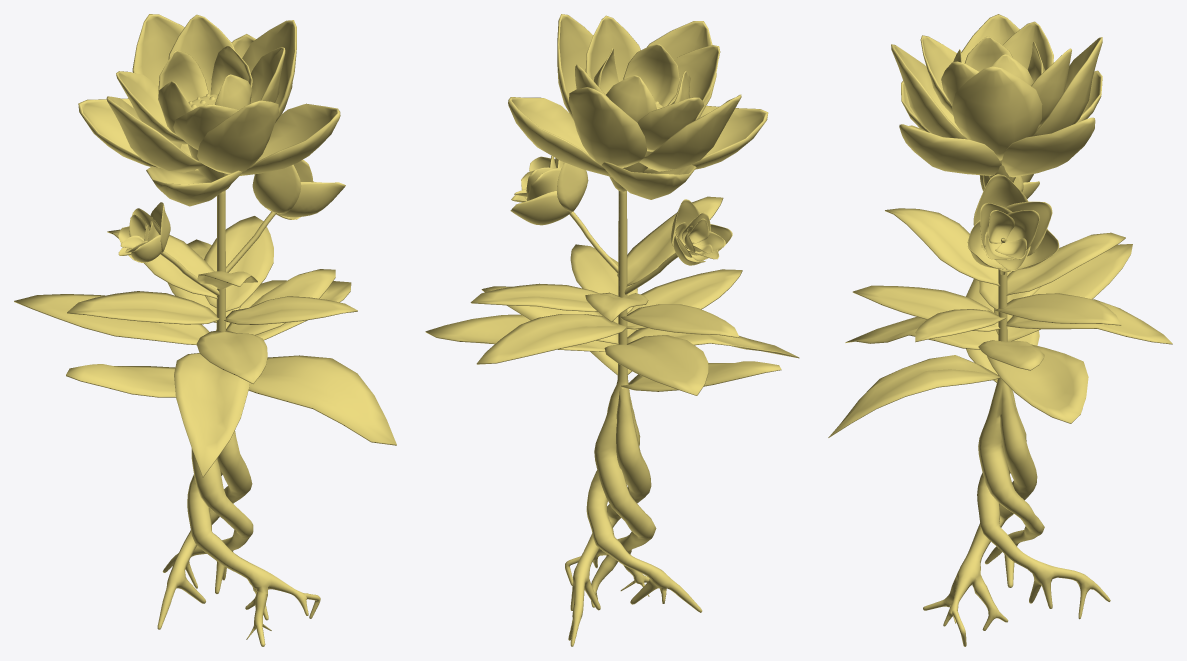
Rendered from FlorC.fbx.
3 views of the same model, side by side, from view 1: azimuth 30°, elevation 25°; view 2: azimuth 150°, elevation 25°; view 3: azimuth 270°, elevation 25° (orthographic).
Visible parts, largest first — view 1: Sphere.001; view 2: Sphere.001; view 3: Sphere.001.
Part boxes in pixels (x1,y1,x2,y2): Sphere.001: [14, 14, 396, 646]; Sphere.001: [425, 14, 799, 646]; Sphere.001: [828, 14, 1172, 646].
Bounding box in the file's own units: 257 × 449 × 242.
